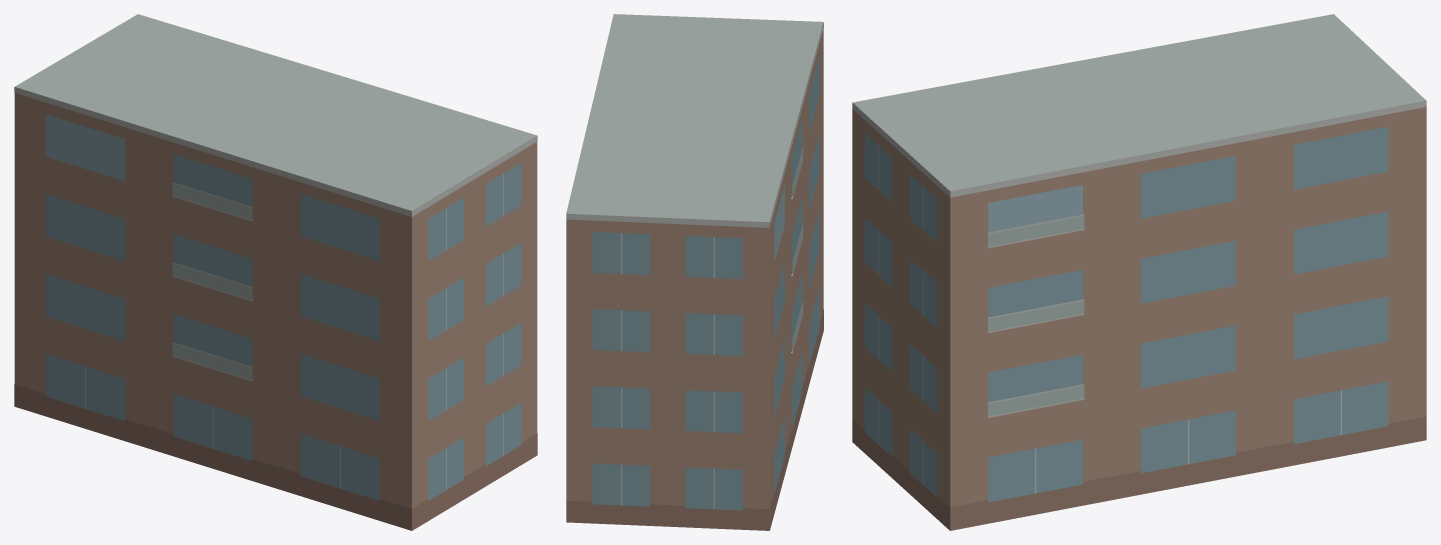
The model's file is survey-upis-33033899.glb.
3 renders of one model, left to right at view 1: azimuth 30°, elevation 25°; view 2: azimuth 150°, elevation 25°; view 3: azimuth 270°, elevation 25°, orthographic. The views are drawn at different scales.
Parts seen in each view (by area): view 1: survey-upis-33033899.tmp; view 2: survey-upis-33033899.tmp; view 3: survey-upis-33033899.tmp.
Part boxes in pixels (x1,y1,x2,y2): survey-upis-33033899.tmp: (14, 14, 537, 530); survey-upis-33033899.tmp: (566, 14, 823, 530); survey-upis-33033899.tmp: (852, 14, 1426, 530).
Size of the model in its own units: 14.8 by 13.2 by 20.24.
